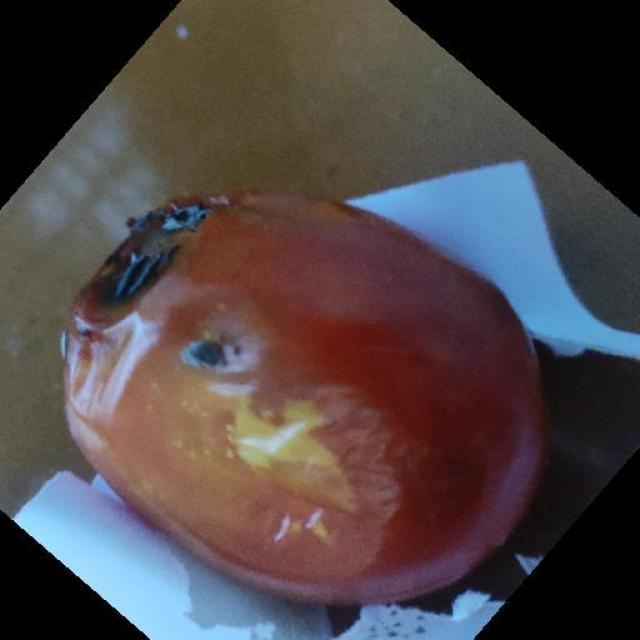Stale_tomato: (77, 185, 523, 553)
